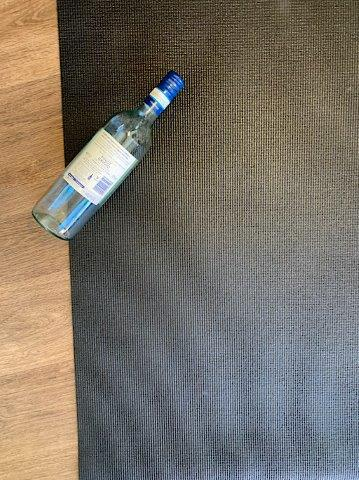botolkaca: (31, 72, 183, 241)
